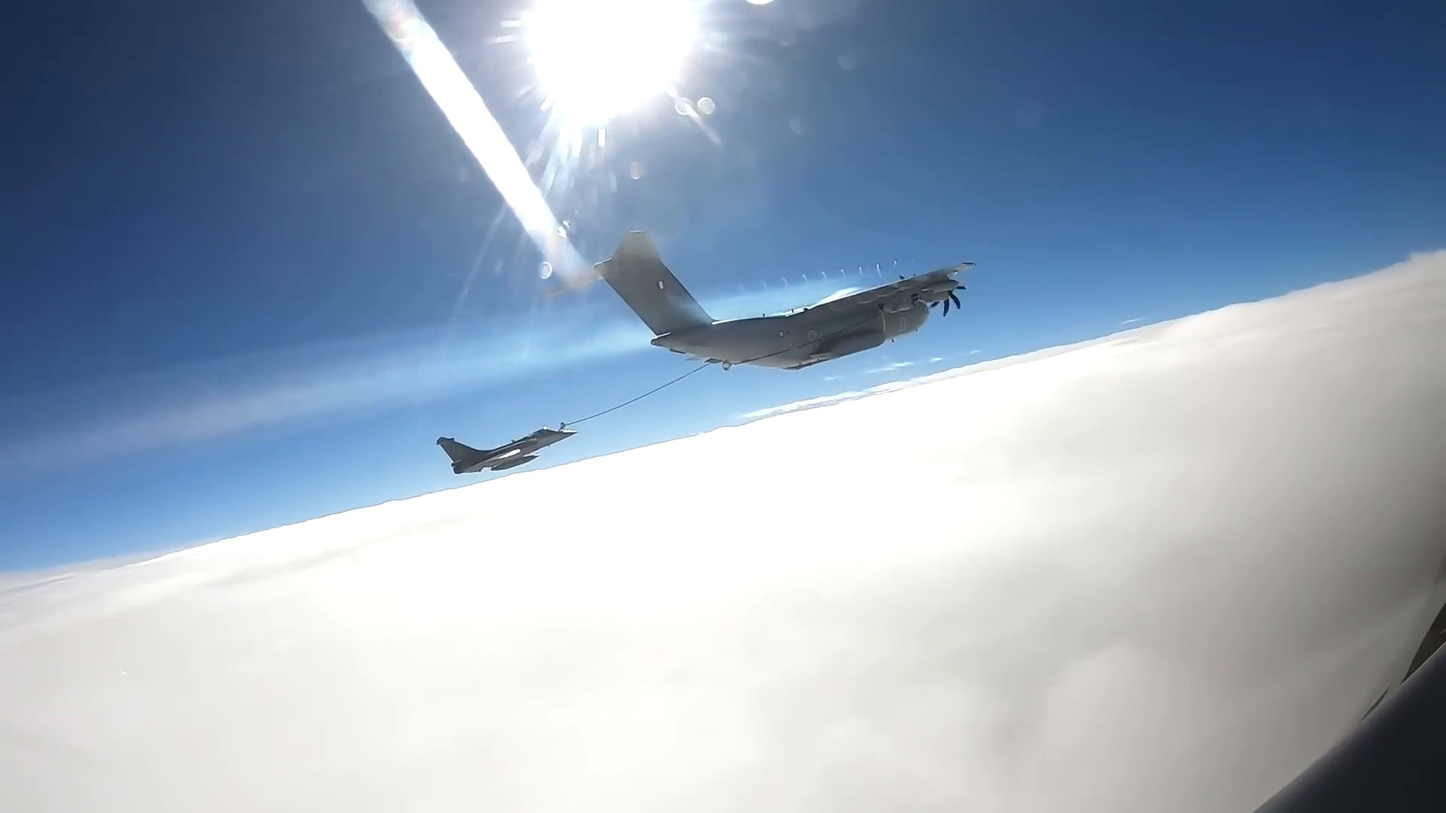Rafale: (435, 426, 576, 476)
